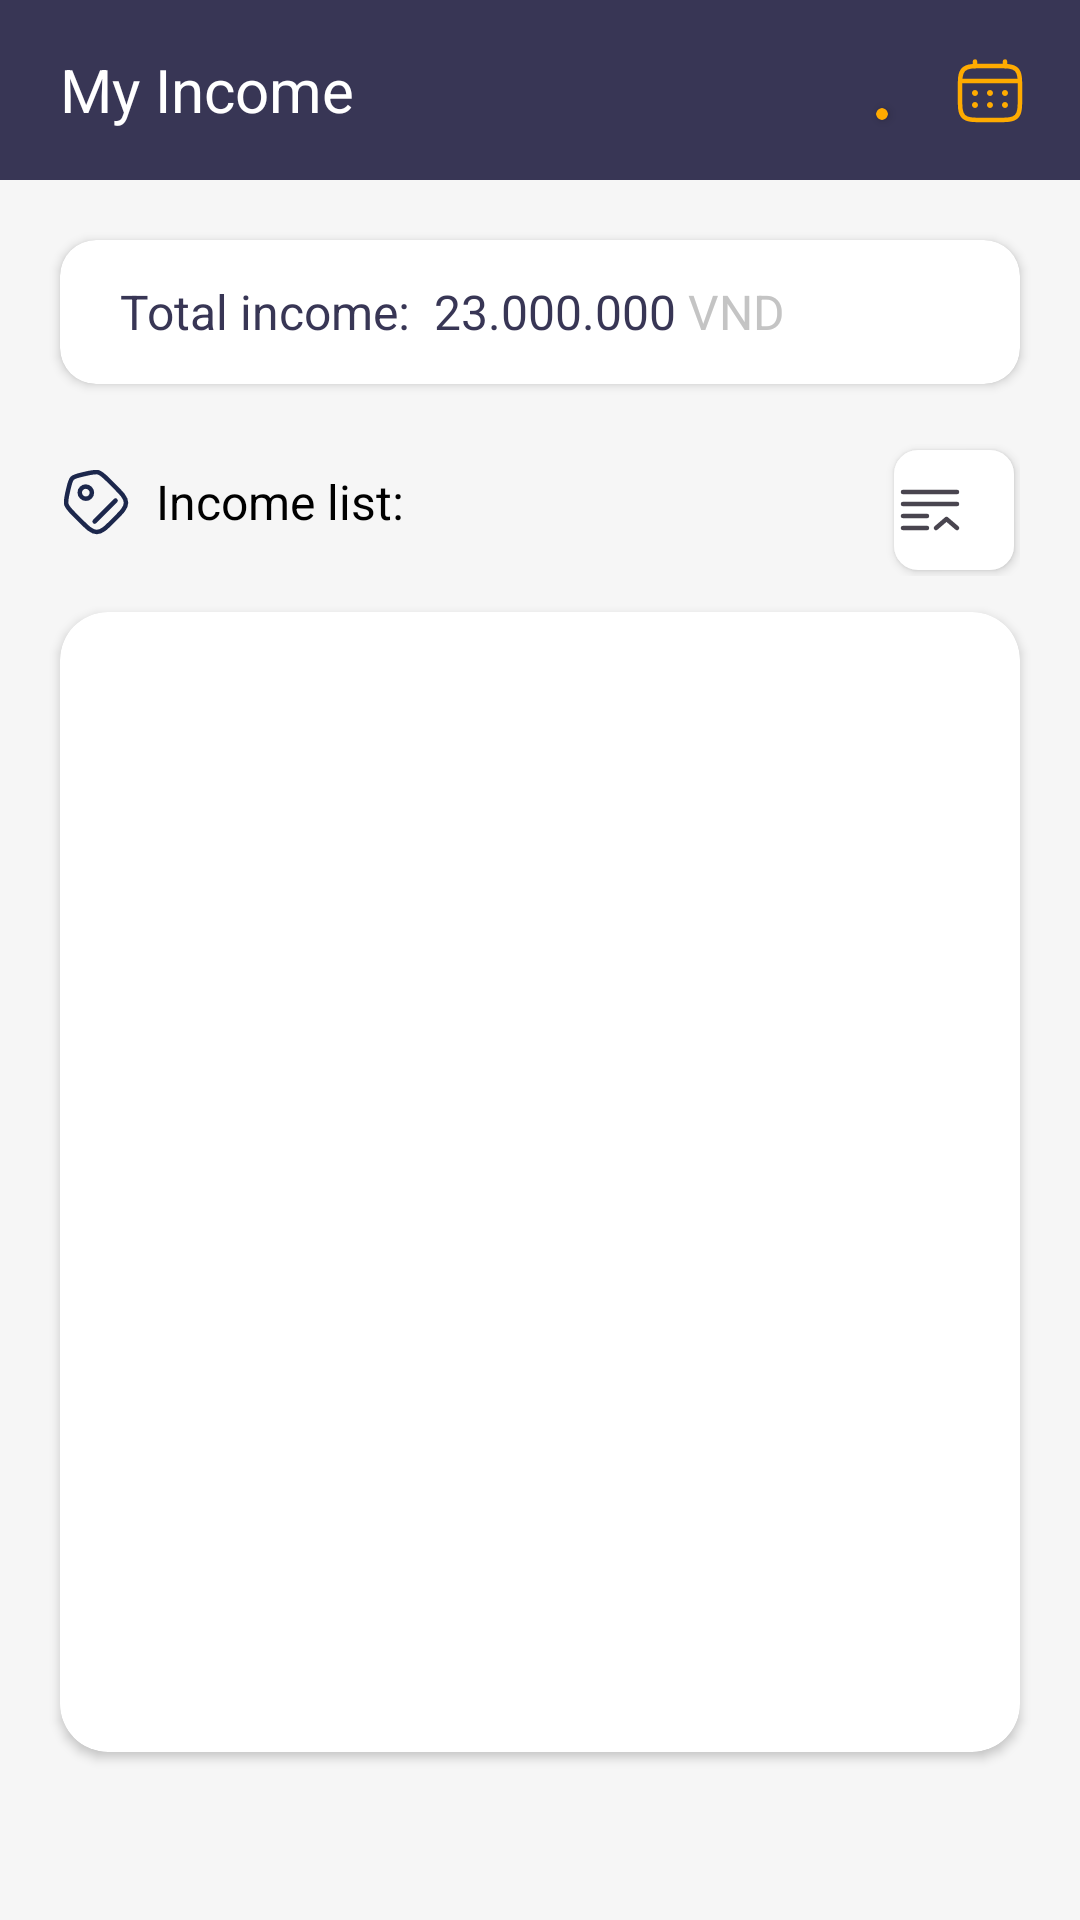

Icon bounding boxes for this 1080w x 1920h phone screenshot, format (x1, y1, x2, y2):
calendar: (957, 59, 1023, 123)
sort tag: (894, 450, 1014, 570)
